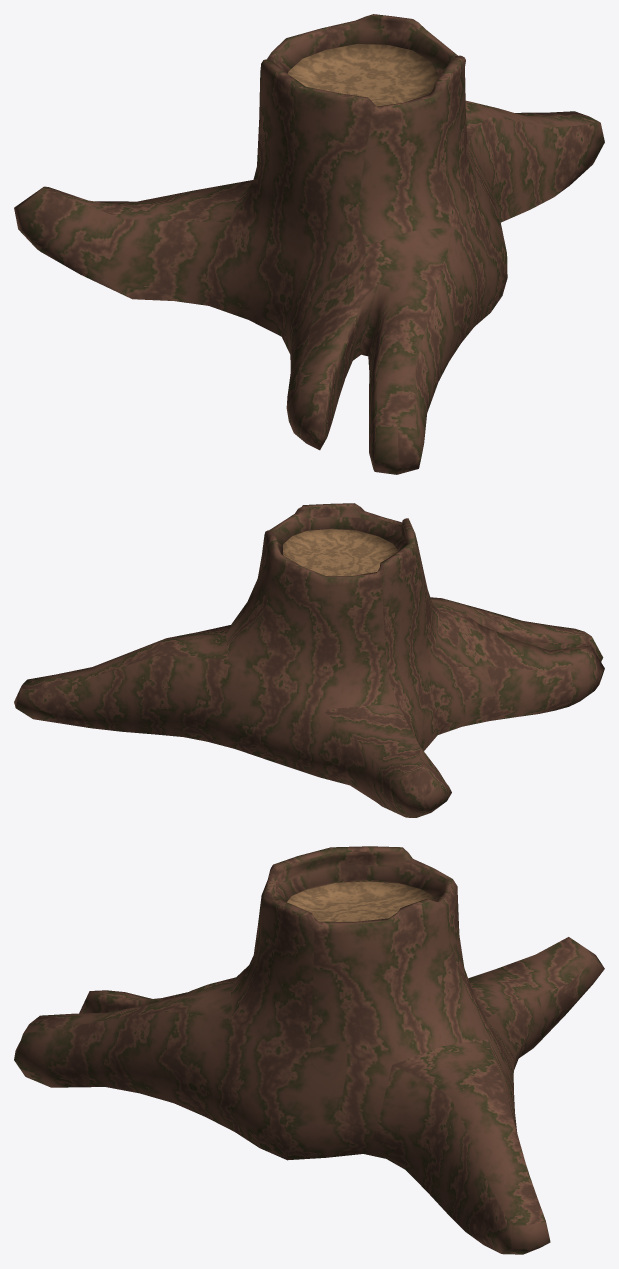
The model's file is TreeStumpBig.fbx.
3 renders of one model, top to bottom at view 1: azimuth 30°, elevation 25°; view 2: azimuth 150°, elevation 25°; view 3: azimuth 270°, elevation 25°, orthographic. The views are drawn at different scales.
Parts seen in each view (by area): view 1: TreeStumpBig; view 2: TreeStumpBig; view 3: TreeStumpBig.
Part boxes in pixels (left/top/right/bottom): TreeStumpBig: left=14, top=14, right=604, bottom=474; TreeStumpBig: left=14, top=503, right=604, bottom=817; TreeStumpBig: left=14, top=846, right=604, bottom=1254.
Size of the model in its own units: 313 by 146 by 298.
